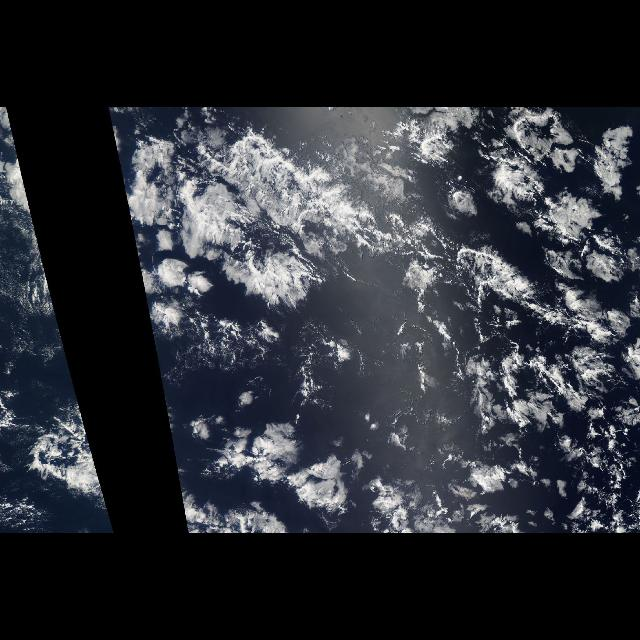Flower: (112, 110, 640, 532)
